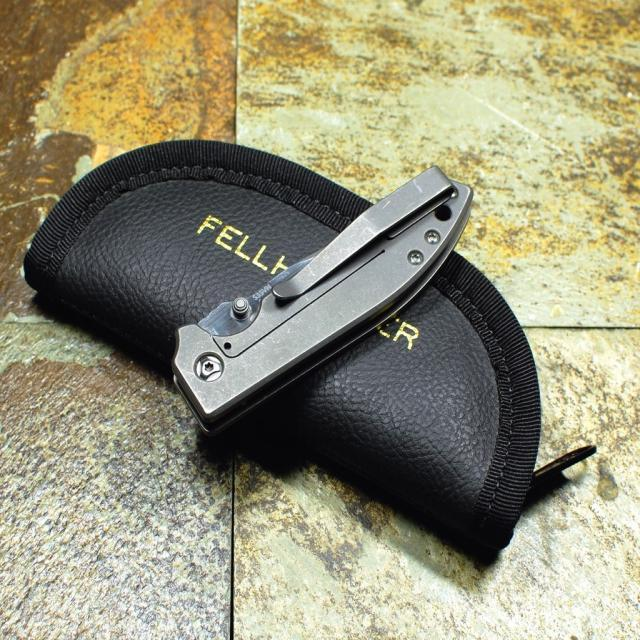Knife: (172, 166, 470, 432)
